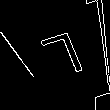L_S: (40, 29, 92, 88)
